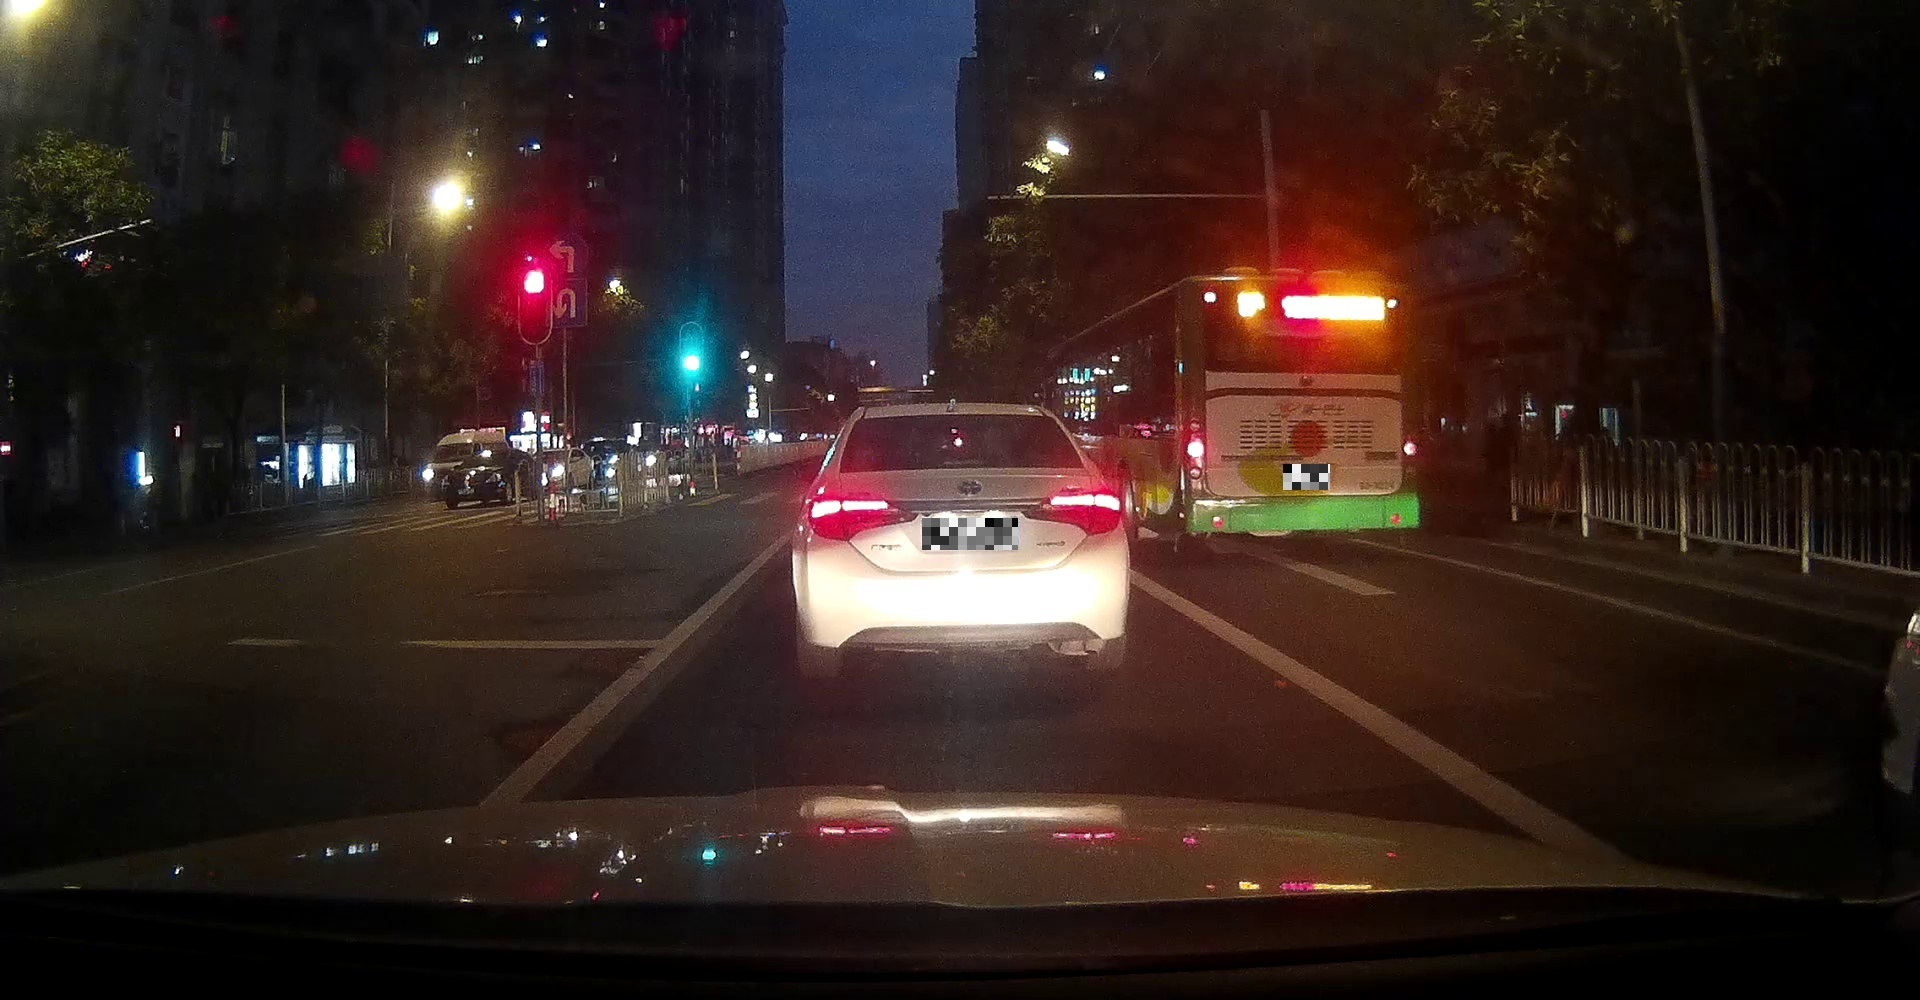L_light: (808, 492, 918, 541), (1183, 419, 1204, 481)
R_light: (1021, 484, 1123, 536), (1403, 418, 1418, 481)
T_light: (938, 458, 982, 467), (1283, 286, 1314, 296)
night-no: (794, 404, 1129, 681), (1176, 272, 1421, 552)
plate_1: (922, 518, 1018, 549)
plate_2: (1283, 464, 1330, 490)
